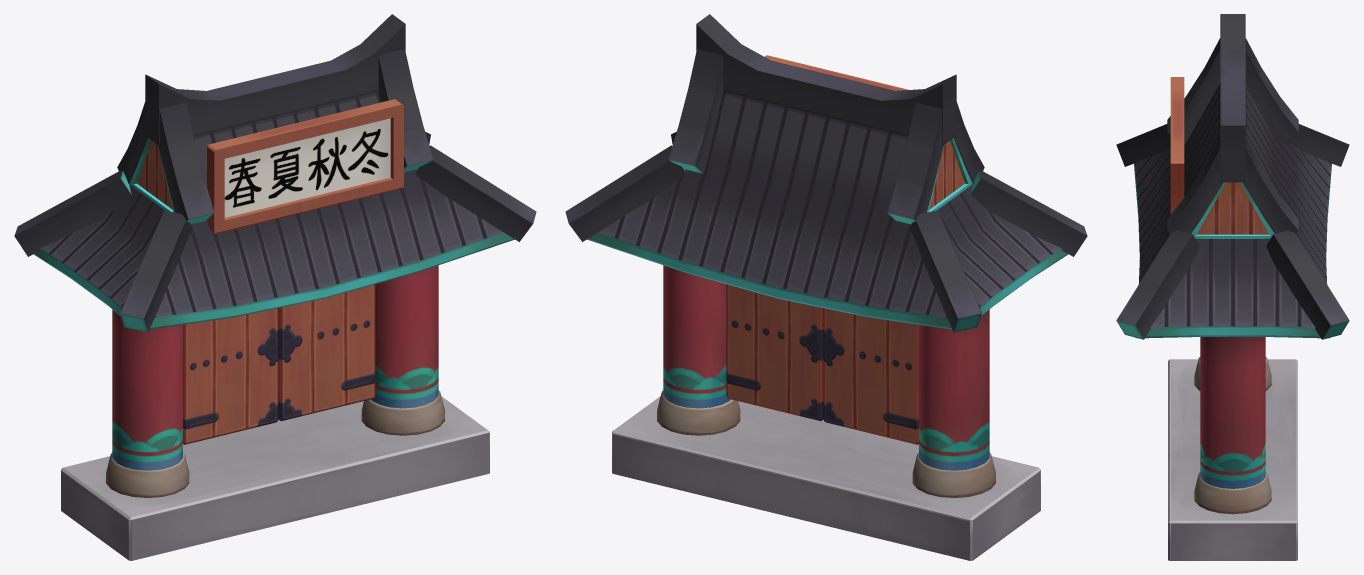
File: Gate.FBX
3 renders of one model, left to right at view 1: azimuth 30°, elevation 25°; view 2: azimuth 150°, elevation 25°; view 3: azimuth 270°, elevation 25°, orthographic. The views are drawn at different scales.
Visible parts, largest first — view 1: Box001; view 2: Box001; view 3: Box001.
Boxes of the visible parts, x1=… form: Box001: x1=14, y1=14, x2=536, y2=560; Box001: x1=565, y1=14, x2=1087, y2=560; Box001: x1=1116, y1=14, x2=1349, y2=560.
Bounding box in the file's own units: 685 × 695 × 359.
